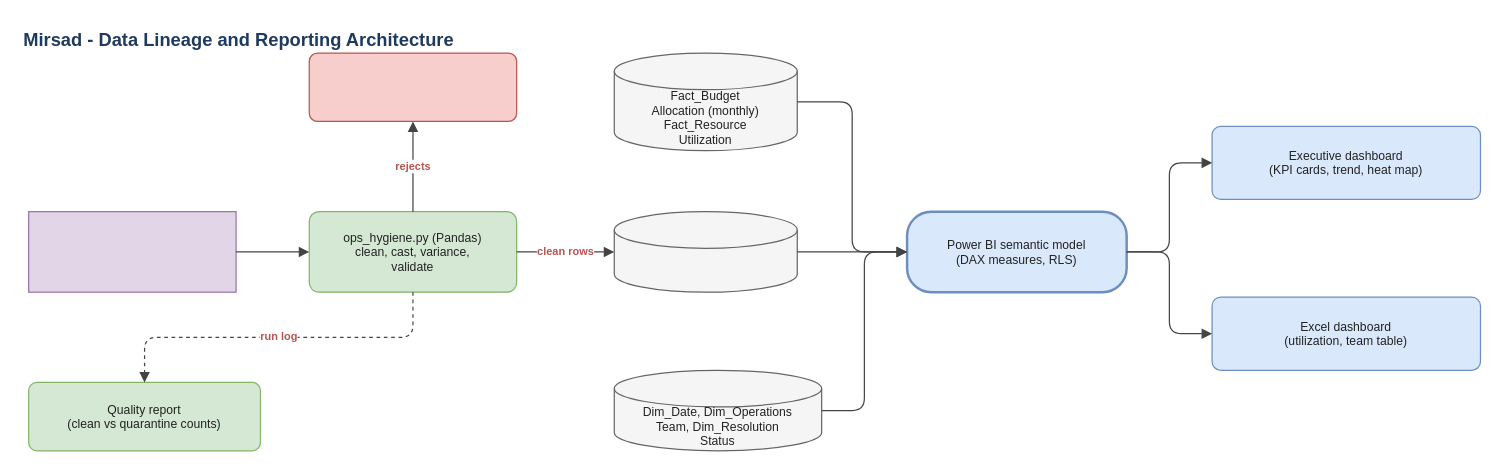
Some shapes in this 1502 by 472 pixel diagram are drawn without their labels. Each missing label, with the box of its shape:
Fact_Discrepancy Resolution: (613, 210, 797, 292)
Operational CSV exports (ticketing, finance, fulfilment): (27, 210, 236, 292)
quarantine_tickets.csv (reason codes): (308, 52, 517, 121)
